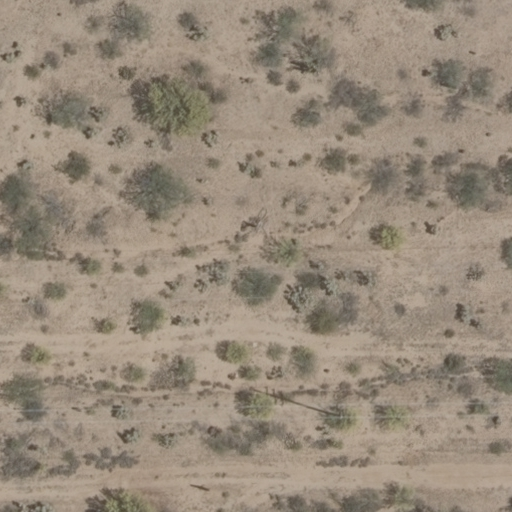DT: (326, 398, 349, 429)
